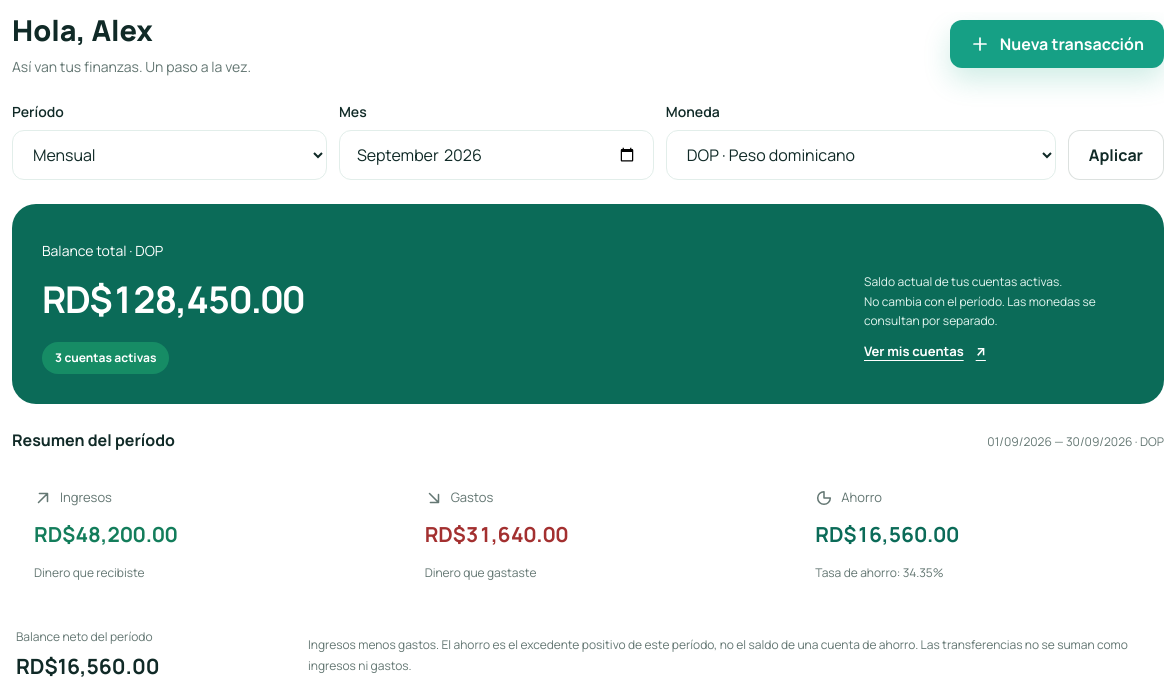
Test: shows a safe error when quick entry cannot be opened
What coordinates should you click on to do the following:
click the button "Nueva transacción"
I would click on:
 (1057, 44)
Its box is [950,20,1164,68].
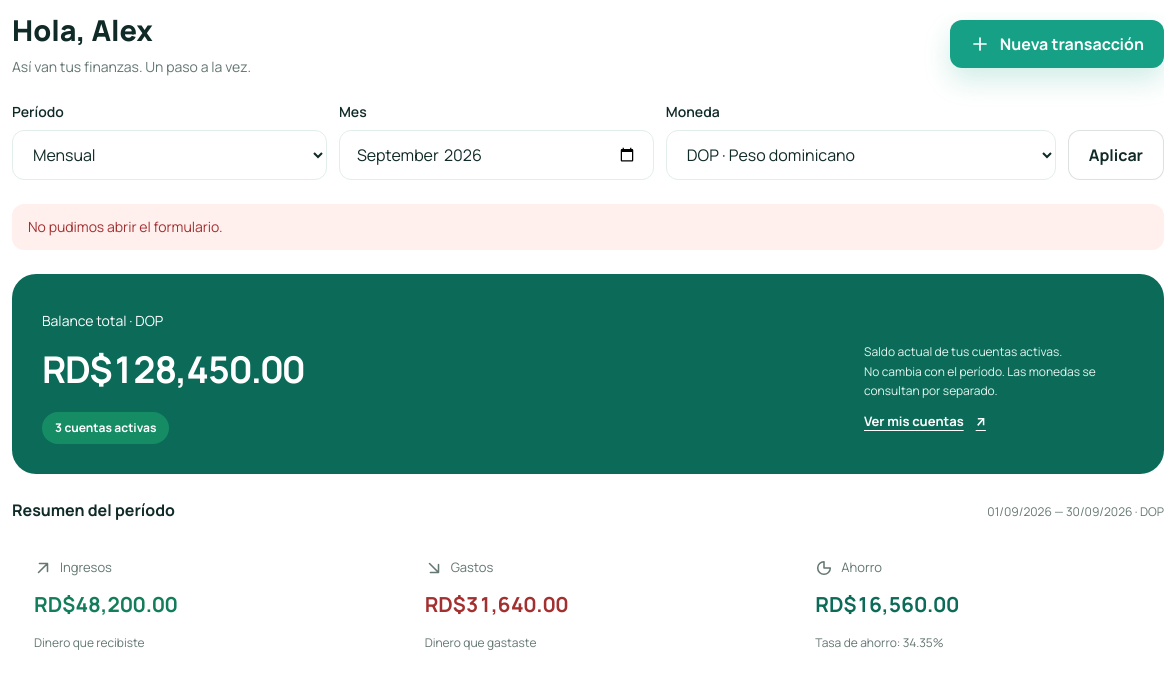
Check: the message reads "No pudimos abrir el formulario.", box [28,217,223,236]
